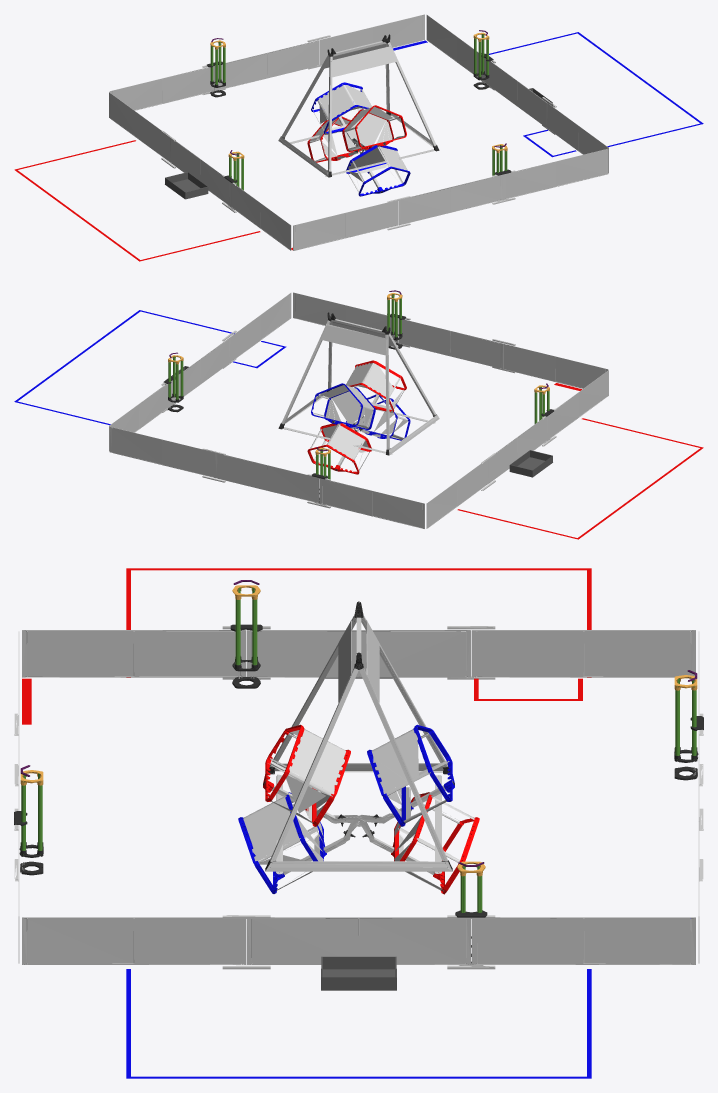
The model's file is field.glb.
The picture shows the model from 3 angles, top to bottom: view 1: azimuth 30°, elevation 25°; view 2: azimuth 150°, elevation 25°; view 3: azimuth 270°, elevation 25°; orthographic projection. The views are drawn at different scales.
Visible parts, largest first — view 1: static_glass__6, static__1, hive_blue__0, hive_red__1, static__4, hive_blue__1, static_tape__8, hive_red__0, static__7, static_tape__9, static__3; view 2: static_glass__6, static__1, hive_red__1, hive_blue__0, static__4, hive_red__0, static_tape__9, hive_blue__1, static_tape__8, static__7, static__3; view 3: static_glass__6, static__1, hive_blue__0, hive_red__1, static_tape__9, static__7, hive_red__0, static__4, hive_blue__1, static__3, static_tape__8, static__0.
Boxes of the visible parts, bbox=[...] form: static_glass__6: bbox=[109, 14, 608, 250]; static__1: bbox=[161, 35, 556, 230]; hive_blue__0: bbox=[313, 84, 407, 192]; hive_red__1: bbox=[309, 106, 404, 161]; static__4: bbox=[210, 34, 507, 190]; hive_blue__1: bbox=[311, 82, 410, 196]; static_tape__8: bbox=[393, 32, 703, 157]; hive_red__0: bbox=[307, 105, 406, 162]; static__7: bbox=[165, 88, 552, 199]; static_tape__9: bbox=[14, 140, 292, 261]; static__3: bbox=[207, 34, 511, 182]; static_glass__6: bbox=[109, 292, 608, 528]; static__1: bbox=[161, 313, 556, 508]; hive_red__1: bbox=[310, 363, 404, 470]; hive_blue__0: bbox=[313, 385, 408, 439]; static__4: bbox=[168, 294, 549, 479]; hive_red__0: bbox=[307, 360, 406, 474]; static_tape__9: bbox=[457, 383, 703, 539]; hive_blue__1: bbox=[311, 383, 410, 440]; static_tape__8: bbox=[14, 310, 286, 425]; static__7: bbox=[165, 366, 552, 477]; static__3: bbox=[163, 312, 554, 502]; static_glass__6: bbox=[18, 630, 699, 964]; static__1: bbox=[14, 615, 703, 969]; hive_blue__0: bbox=[243, 727, 452, 890]; hive_red__1: bbox=[265, 729, 474, 891]; static_tape__9: bbox=[22, 568, 591, 724]; static__7: bbox=[321, 677, 396, 990]; hive_red__0: bbox=[263, 724, 479, 894]; static__4: bbox=[21, 587, 696, 912]; hive_blue__1: bbox=[238, 724, 454, 893]; static__3: bbox=[14, 601, 703, 963]; static_tape__8: bbox=[126, 918, 690, 1078]; static__0: bbox=[20, 585, 697, 876].
Bounding box in the file's own units: 6.38 × 1.46 × 3.65.
